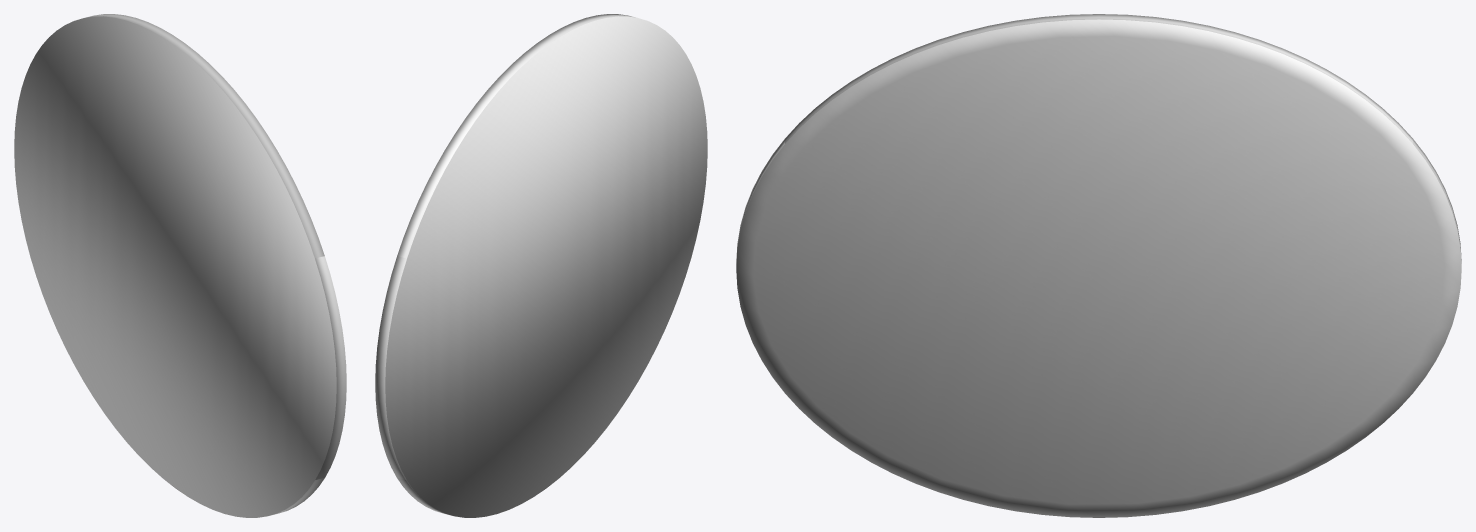
Rendered from mirror.obj.
3 renders of one model, left to right at view 1: azimuth 30°, elevation 25°; view 2: azimuth 150°, elevation 25°; view 3: azimuth 270°, elevation 25°, orthographic. The views are drawn at different scales.
Parts seen in each view (by area): view 1: mirror; view 2: mirror; view 3: mirror.
Boxes of the visible parts, x1,y1,x2,y2 form: mirror: (14, 14, 346, 517); mirror: (375, 14, 707, 517); mirror: (736, 14, 1461, 517).
Size of the model in its own units: 0.0214 by 0.6572 by 0.8673.
1 material, 1 textured.
